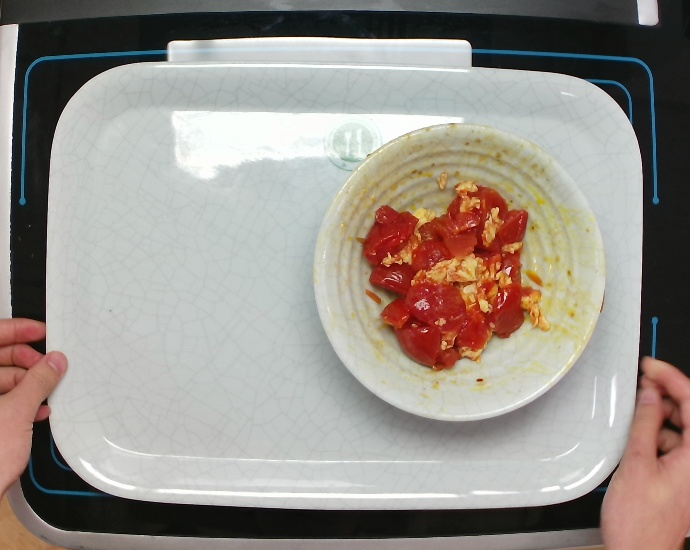JYsf-Xiao_Tang_Wan: (310, 121, 609, 424)
